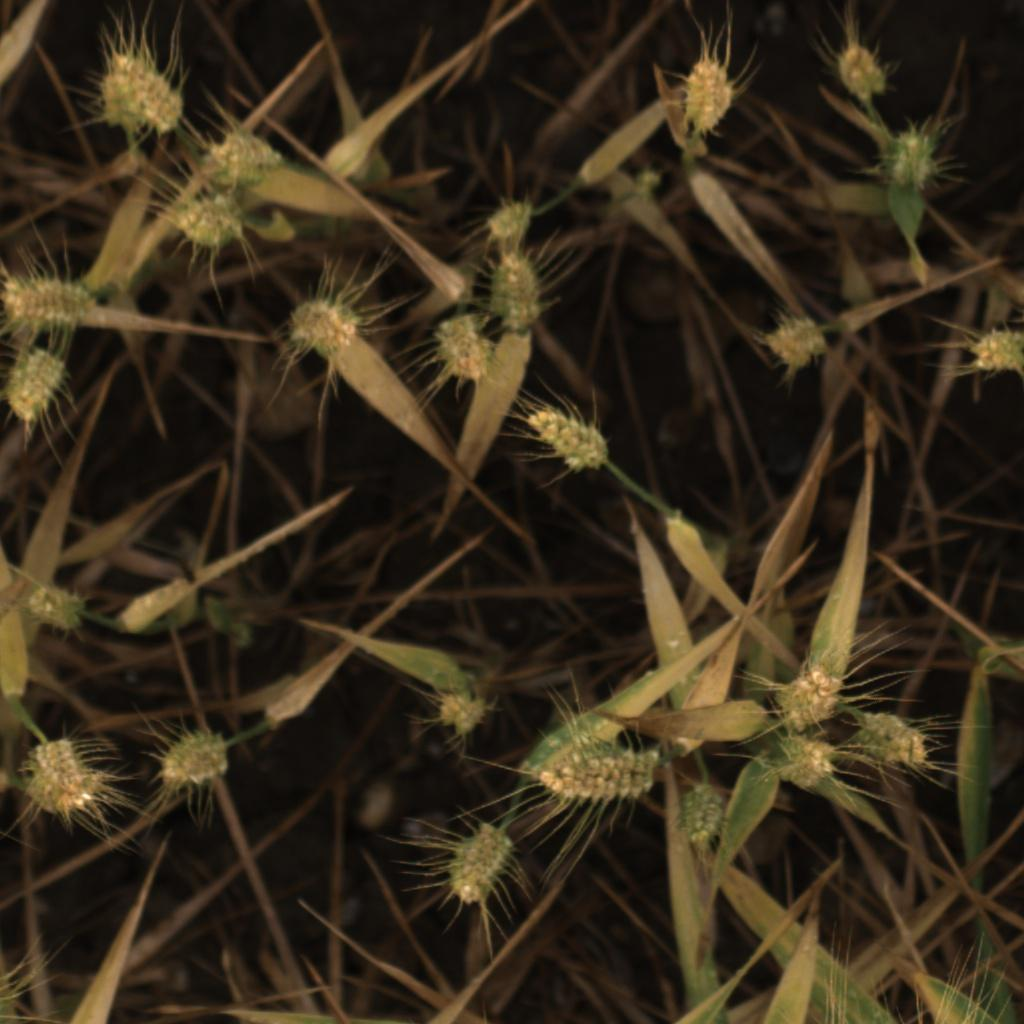0-0: (532, 739, 663, 803), (514, 402, 617, 480), (101, 47, 187, 140), (844, 701, 941, 779), (16, 731, 105, 816), (440, 823, 520, 911), (670, 53, 749, 141), (423, 306, 501, 393), (279, 289, 370, 362), (0, 264, 100, 330), (0, 342, 68, 439), (483, 247, 557, 336), (154, 721, 233, 797), (195, 126, 281, 195), (769, 660, 848, 731), (166, 192, 254, 254), (825, 37, 900, 106), (879, 120, 946, 193), (756, 313, 831, 378), (768, 731, 842, 792), (958, 319, 1024, 385), (672, 782, 731, 855), (432, 678, 497, 741), (23, 579, 87, 633), (479, 195, 535, 249)
